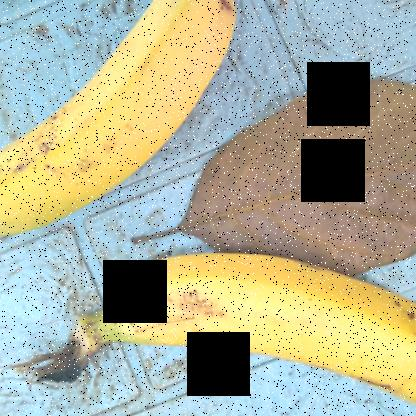freshripe: (1, 0, 246, 245), (114, 245, 416, 415)
